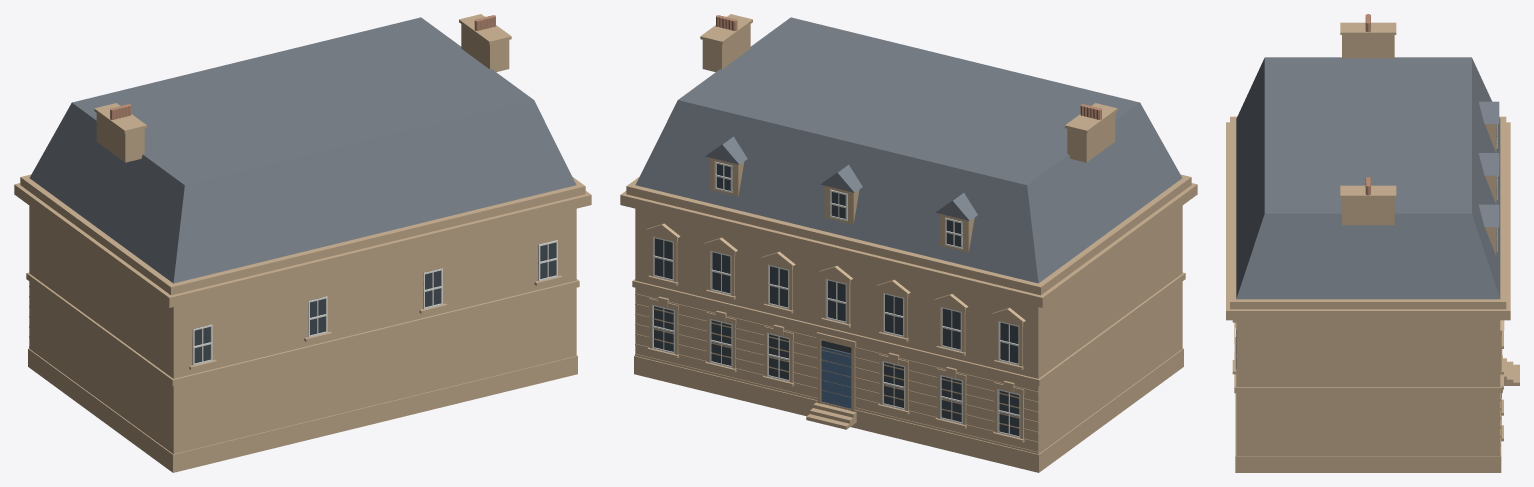
The model's file is classical2.glb.
3 renders of one model, left to right at view 1: azimuth 30°, elevation 25°; view 2: azimuth 150°, elevation 25°; view 3: azimuth 270°, elevation 25°, orthographic. The views are drawn at different scales.
Visible parts, largest first — view 1: classical2; view 2: classical2; view 3: classical2.
Part boxes in pixels (x1,y1,x2,y2): classical2: (14, 14, 591, 472); classical2: (620, 14, 1197, 472); classical2: (1226, 14, 1519, 472).
Size of the model in its own units: 22 by 15.32 by 14.46.
